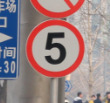speed_limit_5: (26, 19, 85, 77)
